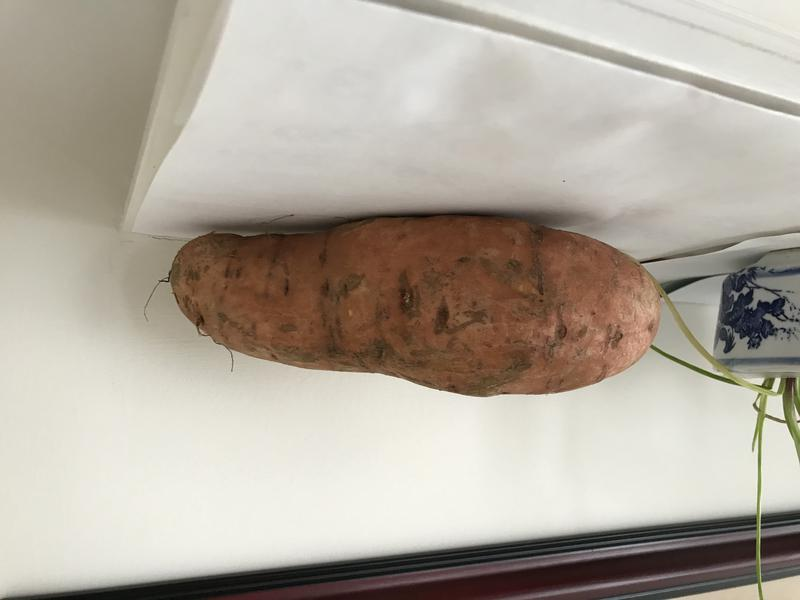sweet_potato: (154, 202, 670, 410)
